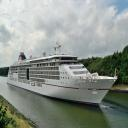cruises: (7, 41, 120, 109)
